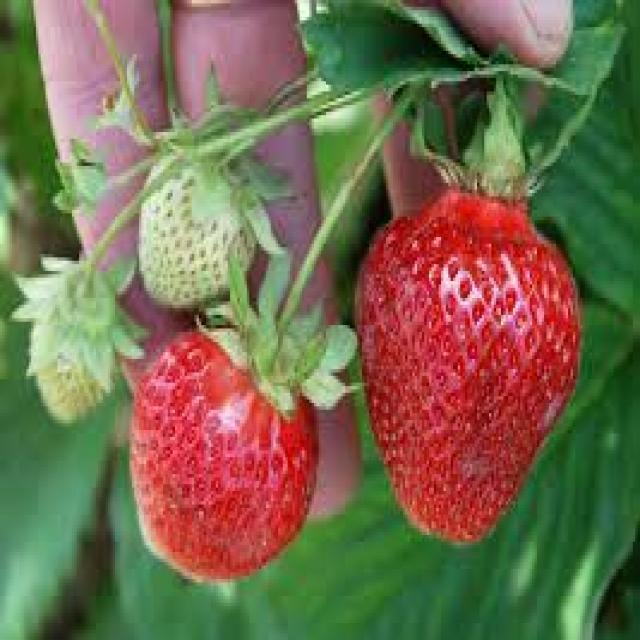ripe: (350, 181, 590, 552), (130, 312, 324, 587)
unripe: (132, 140, 260, 306), (22, 253, 123, 431)
